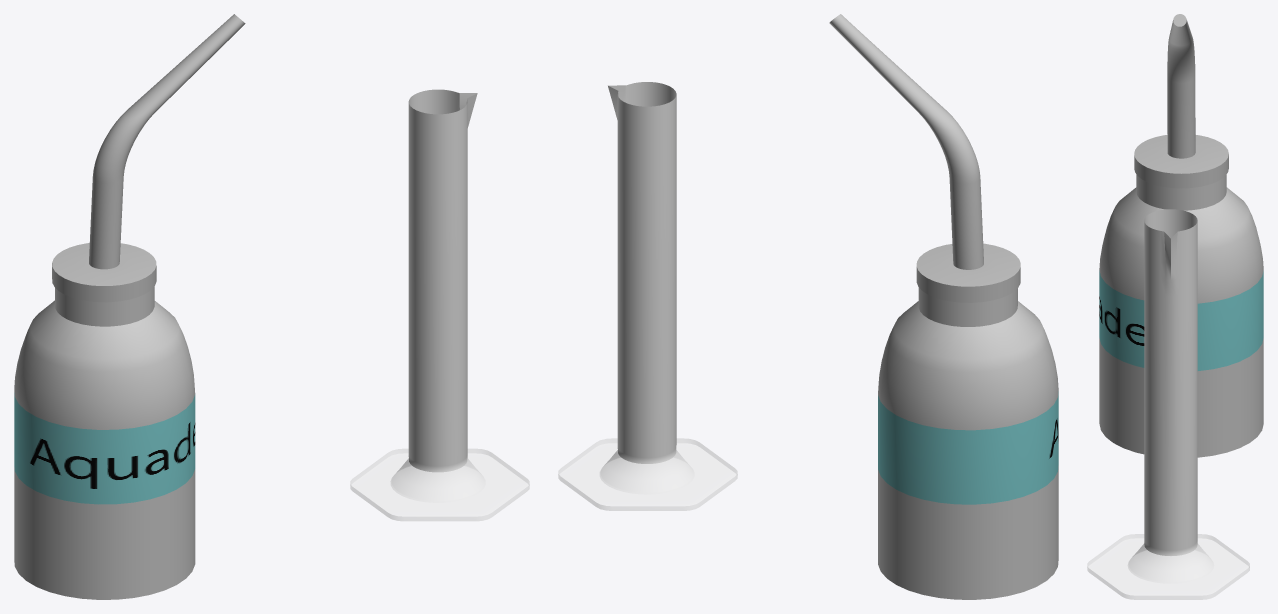
Rendered from Aquades + tabung ukur .fbx.
The picture shows the model from 3 angles, left to right: view 1: azimuth 30°, elevation 25°; view 2: azimuth 150°, elevation 25°; view 3: azimuth 270°, elevation 25°; orthographic projection. The views are drawn at different scales.
Visible parts, largest first — view 1: Cylinder.007, Tabung ukur, Cylinder.008; view 2: Cylinder.007, Tabung ukur, Cylinder.008; view 3: Cylinder.007, Tabung ukur, Cylinder.008.
Boxes of the visible parts, bbox=[...] form: Cylinder.007: bbox=[14, 286, 195, 599]; Tabung ukur: bbox=[350, 89, 529, 521]; Cylinder.008: bbox=[52, 14, 245, 302]; Cylinder.007: bbox=[878, 287, 1058, 599]; Tabung ukur: bbox=[558, 82, 737, 510]; Cylinder.008: bbox=[829, 14, 1020, 302]; Cylinder.007: bbox=[1099, 174, 1263, 457]; Tabung ukur: bbox=[1087, 209, 1249, 599]; Cylinder.008: bbox=[1134, 14, 1228, 188].
Bounding box in the file's own units: 21.89 × 22.68 × 7.75.
